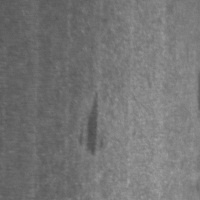inclusion: (74, 86, 108, 160)
